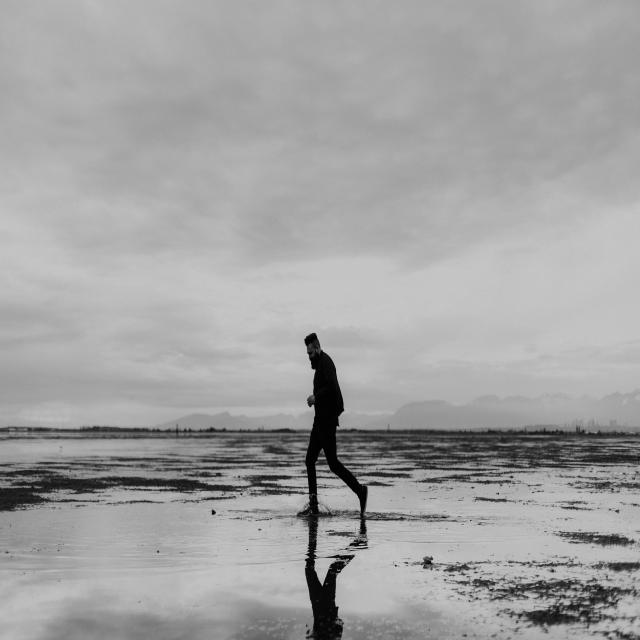running: (295, 330, 373, 520)
